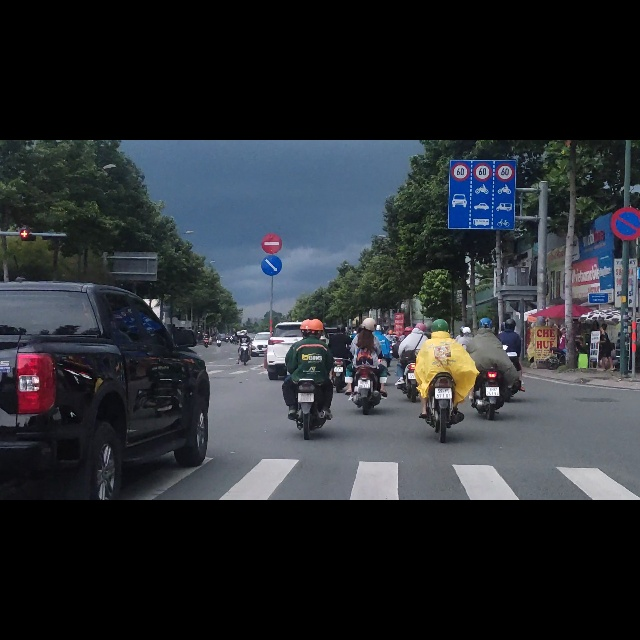bien_cam: (448, 34, 516, 160), (608, 118, 640, 177), (261, 165, 283, 203), (261, 203, 282, 241)
